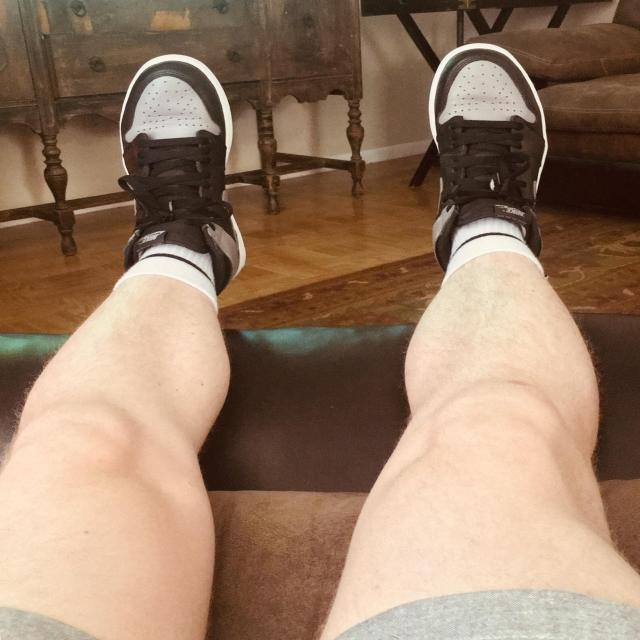shoe: (102, 48, 260, 308), (408, 39, 562, 269)
